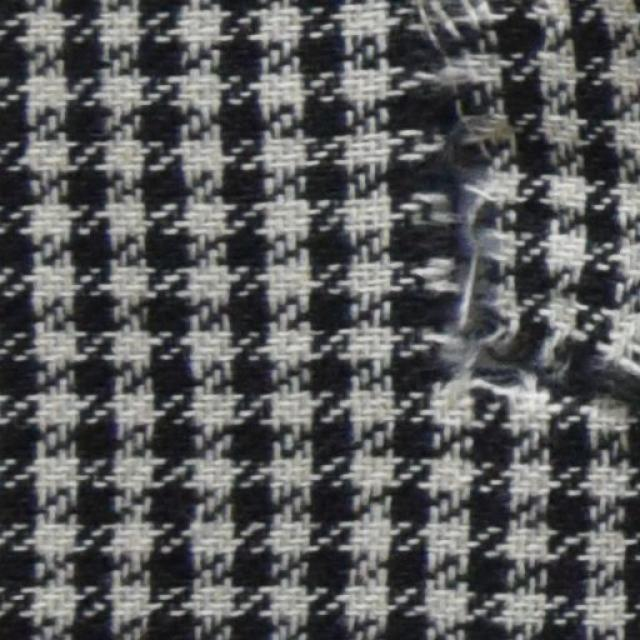Hole: (431, 99, 486, 369)
Snag: (411, 0, 626, 420)
